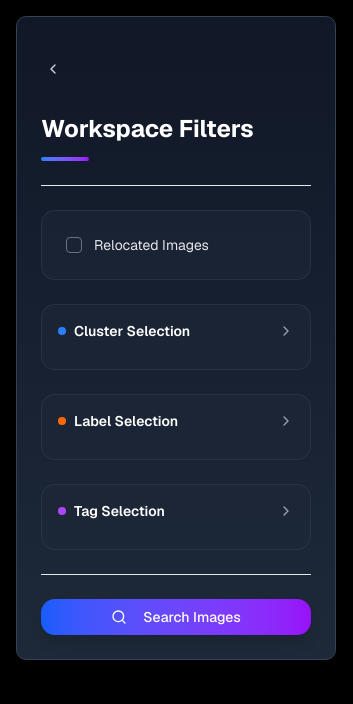
Test: FilterSidebar › cluster selection › shows 'No clusters available' when no clusters exist
The width and height of the screenshot is (353, 704).
What coordinates should you click on to do the following:
click the text "Cluster Selection"
I would click on:
 (132, 331)
Its box is [74, 321, 190, 341].
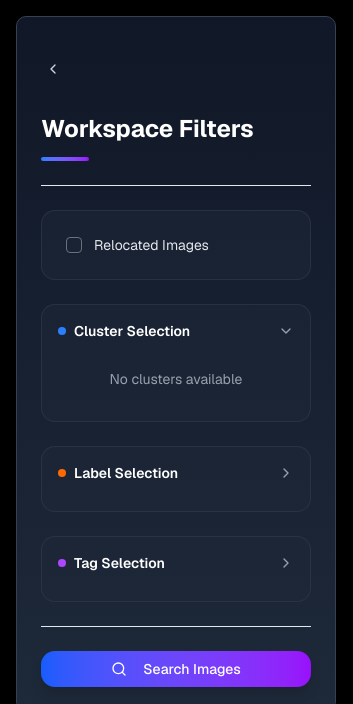
Check: the text "No clusters available" is shown, box [110, 370, 242, 388]
